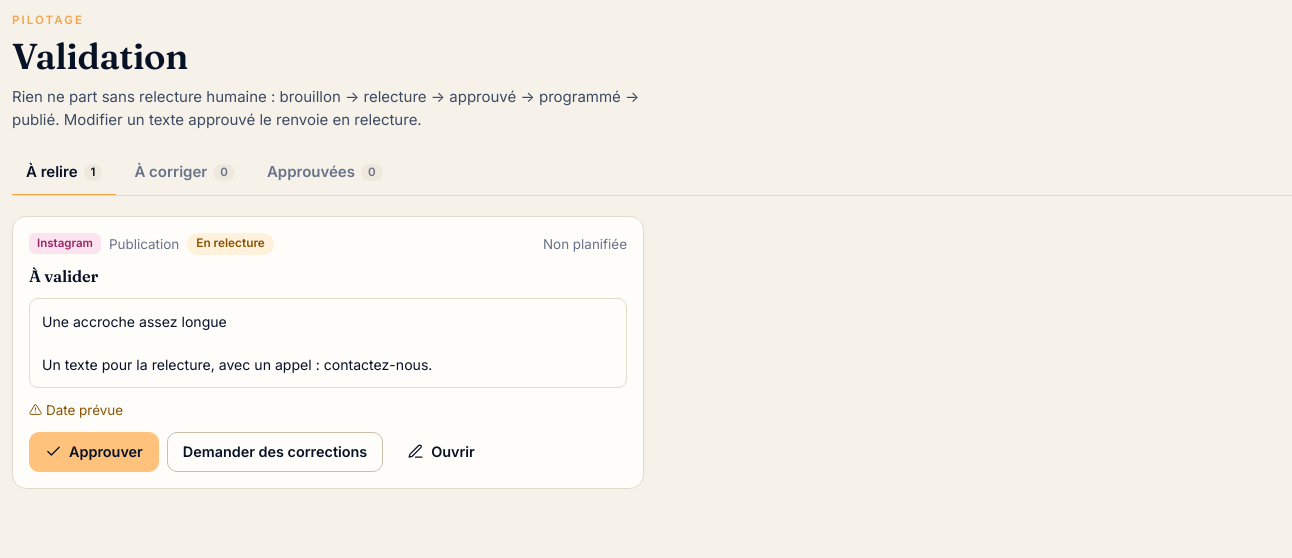
Test case: approval queue › requires a comment to request changes
Later steps or results of the test are not shown.
Click the button "Demander des corrections". click: [275, 452]
box: [167,432,383,472]
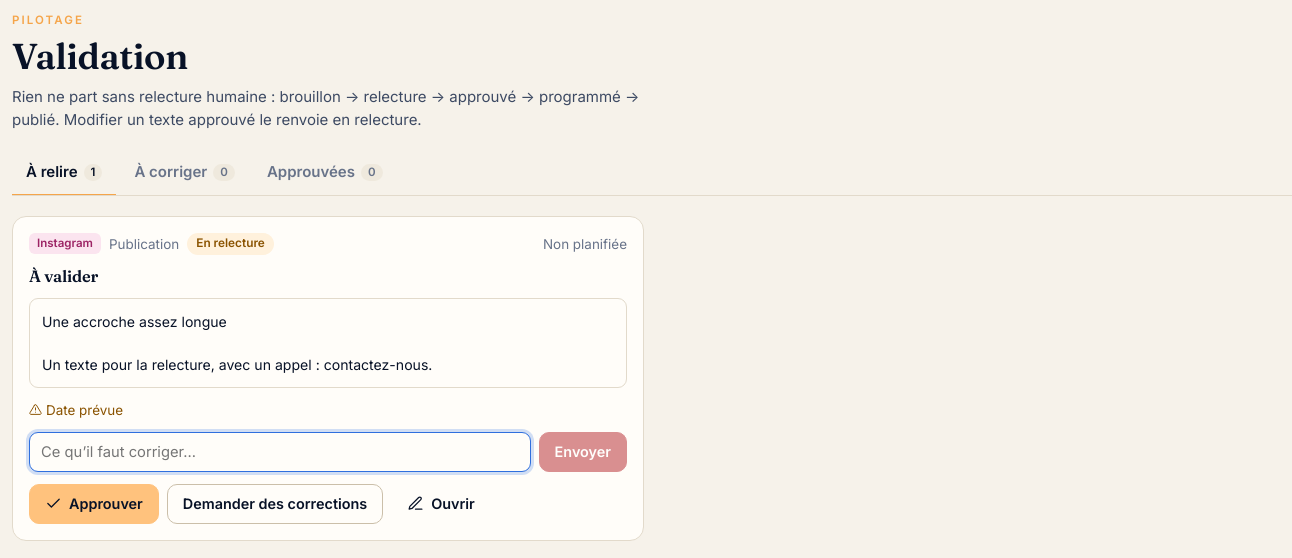
Now the button "Envoyer" is disabled, box [539,432,627,472]
